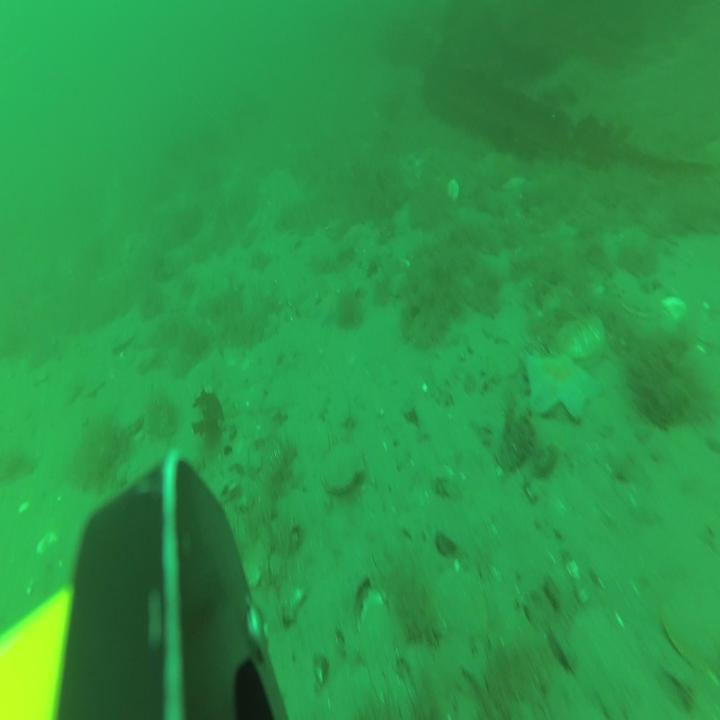scallop: (608, 266, 658, 319), (319, 439, 366, 494), (552, 310, 604, 356), (500, 174, 526, 194), (445, 178, 459, 204)
starfish: (519, 348, 601, 420), (319, 286, 346, 323)
